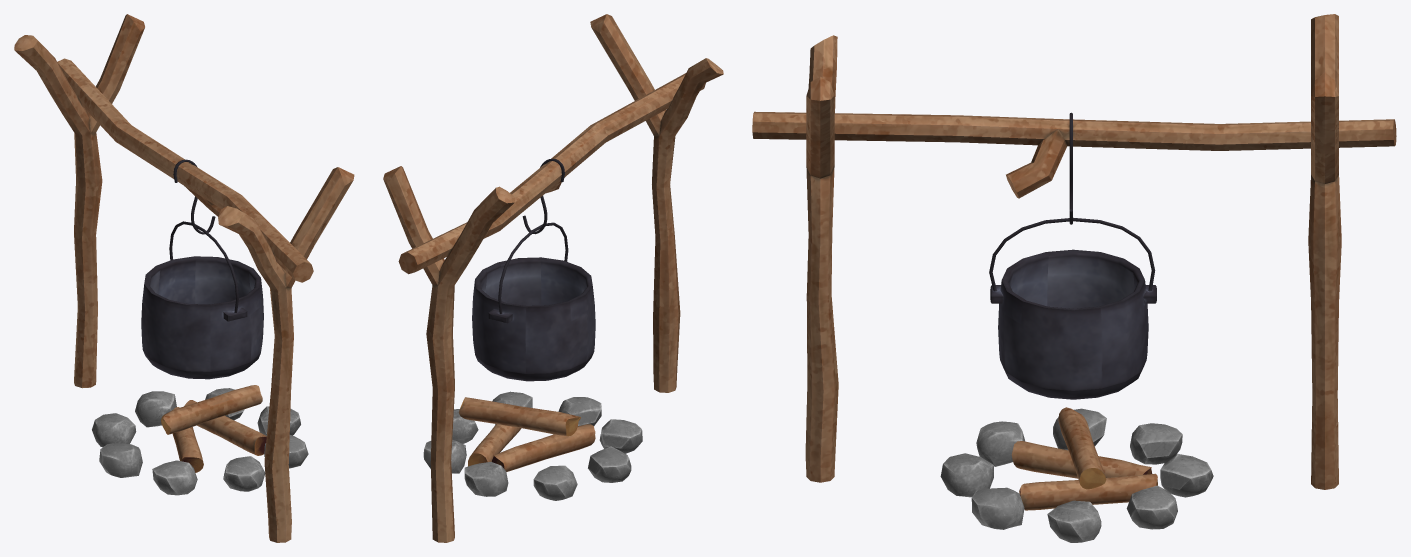
Rendered from Campfire_01.fbx.
The picture shows the model from 3 angles, left to right: view 1: azimuth 30°, elevation 25°; view 2: azimuth 150°, elevation 25°; view 3: azimuth 270°, elevation 25°; orthographic projection. The views are drawn at different scales.
Parts seen in each view (by area): view 1: Campfire with cooking pot; view 2: Campfire with cooking pot; view 3: Campfire with cooking pot.
Boxes of the visible parts, left/top/right/bottom form: Campfire with cooking pot: left=14, top=14, right=354, bottom=542; Campfire with cooking pot: left=383, top=14, right=723, bottom=542; Campfire with cooking pot: left=752, top=14, right=1396, bottom=542.
Bounding box in the file's own units: 69.74 × 124 × 165.
5 materials, 5 textured.
